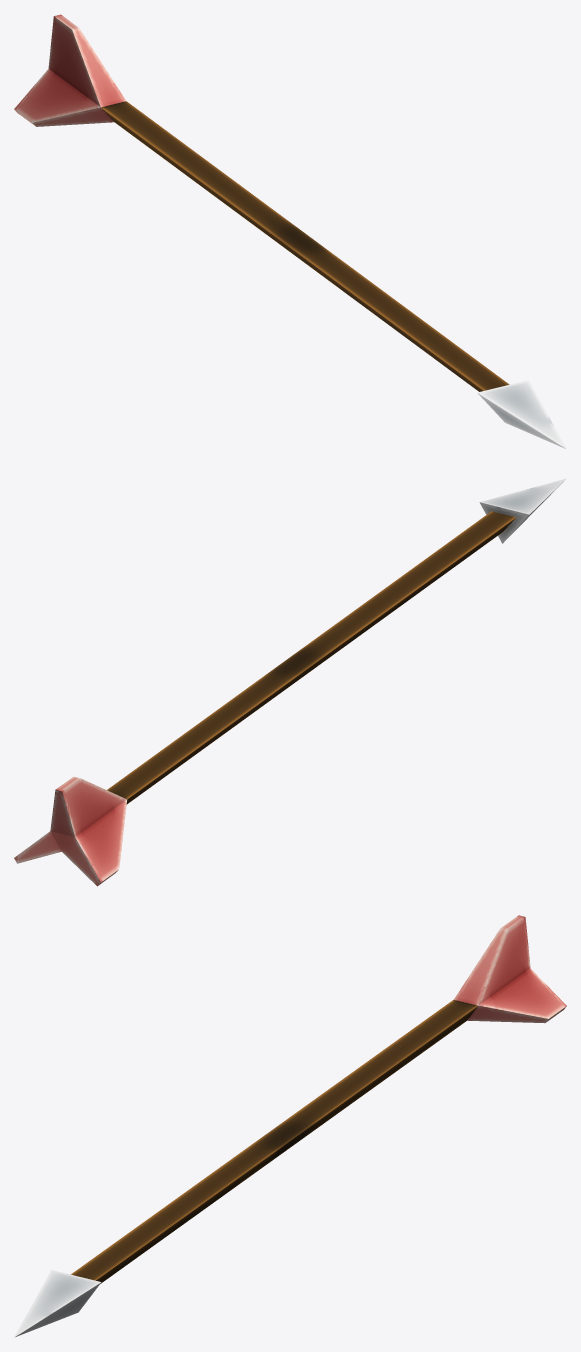
The model's file is arrow.glb.
3 views of the same model, one above another, from view 1: azimuth 30°, elevation 25°; view 2: azimuth 150°, elevation 25°; view 3: azimuth 330°, elevation 25° (orthographic). The views are drawn at different scales.
Parts seen in each view (by area): view 1: Object_7; view 2: Object_7; view 3: Object_7.
Part boxes in pixels (x1=…): Object_7: x1=14, y1=14, x2=566, y2=448; Object_7: x1=14, y1=478, x2=566, y2=886; Object_7: x1=14, y1=915, x2=566, y2=1337.
Size of the model in its own units: 6.64 by 6.26 by 66.04.
1 material, 1 textured.
